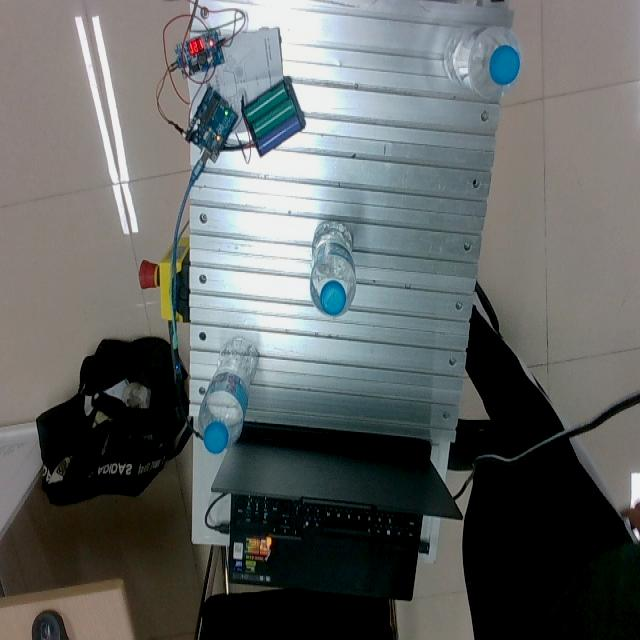lavie: (199, 336, 259, 456), (443, 25, 521, 100), (309, 224, 357, 319)
